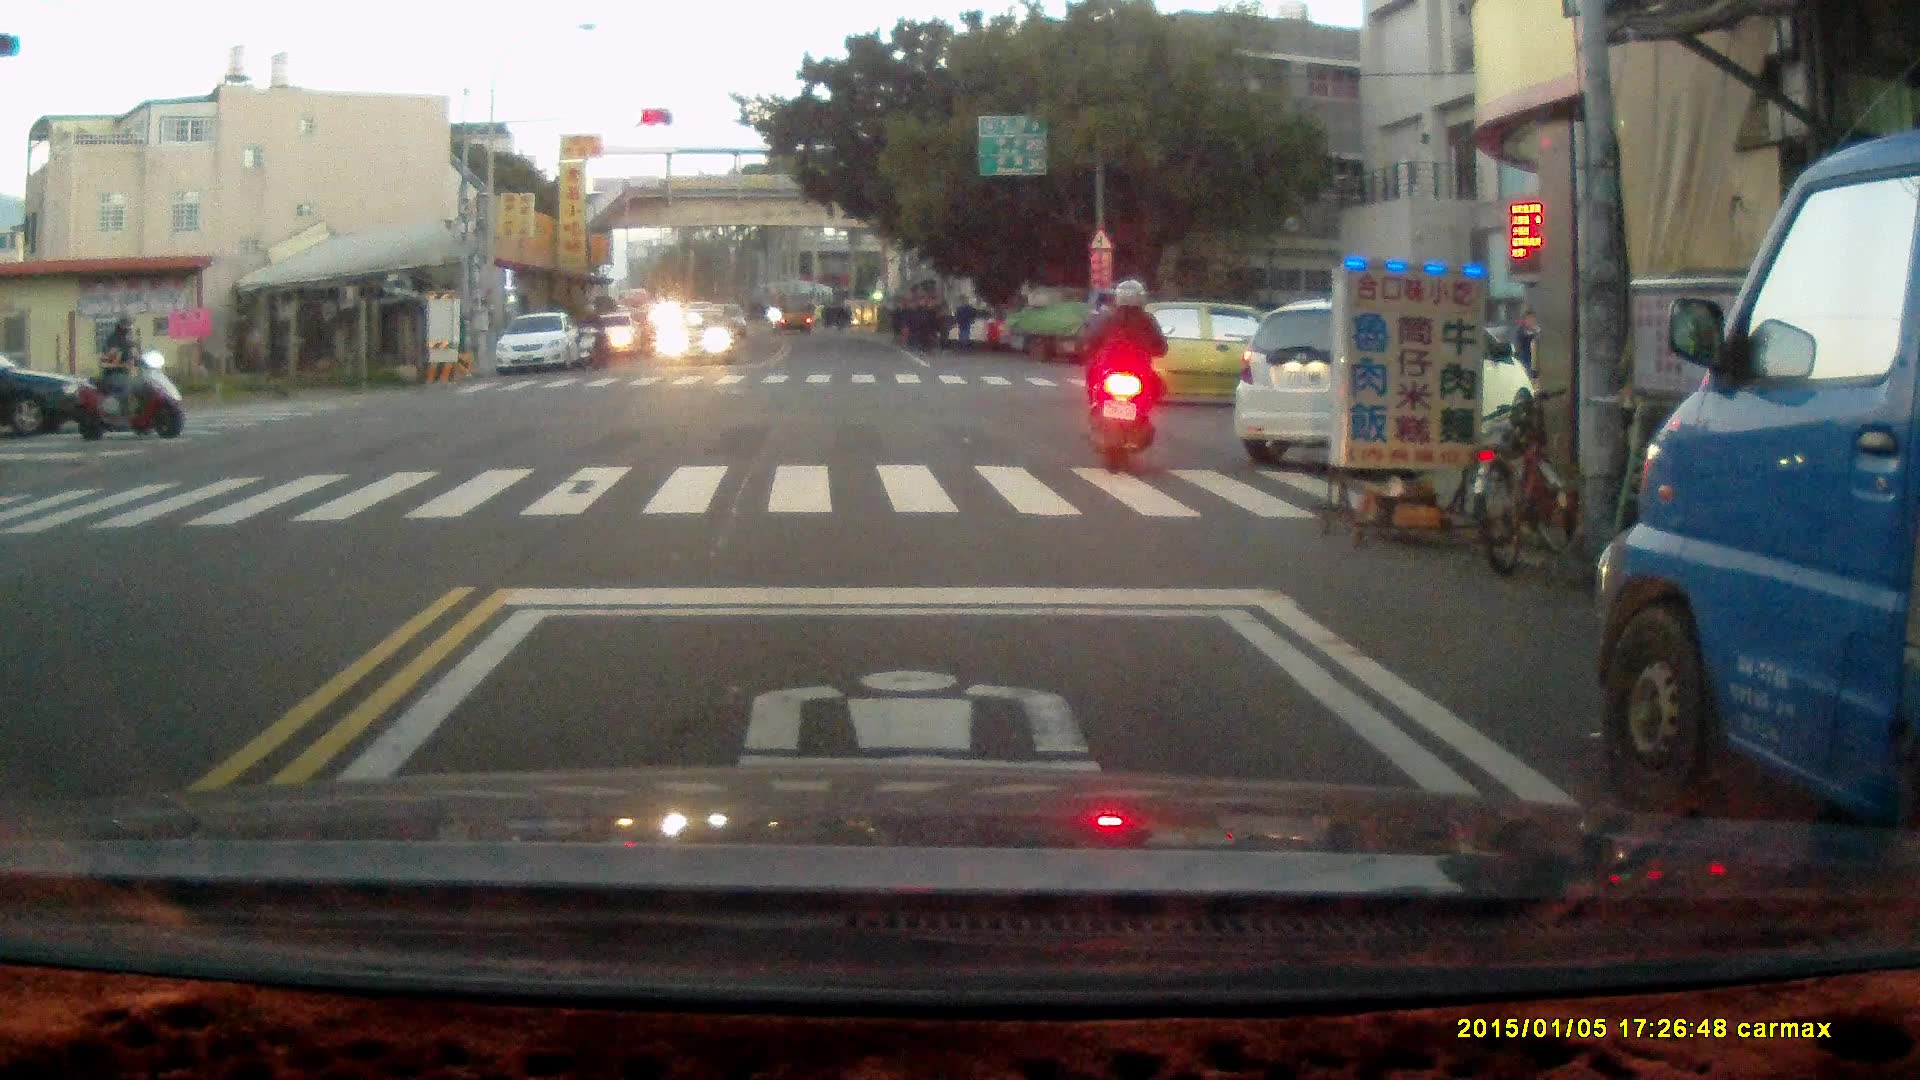pedestrian: (1511, 306, 1545, 391)
rider: (1081, 276, 1176, 475), (70, 311, 192, 439), (576, 299, 608, 371)
vehicle: (1598, 132, 1920, 842), (1233, 296, 1533, 459), (1110, 299, 1340, 413), (1002, 284, 1179, 367), (1, 346, 95, 442), (493, 313, 586, 377), (592, 311, 642, 360), (777, 292, 815, 336)
